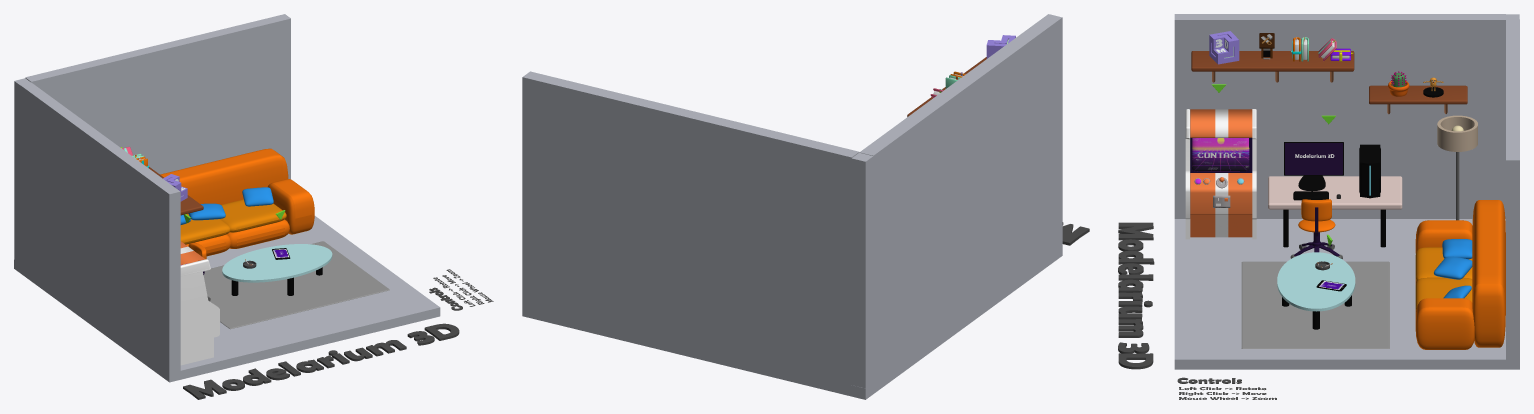
Rendered from modeloFinal.glb.
3 renders of one model, left to right at view 1: azimuth 30°, elevation 25°; view 2: azimuth 150°, elevation 25°; view 3: azimuth 270°, elevation 25°, orthographic. The views are drawn at different scales.
Parts seen in each view (by area): view 1: Cube.014, Cube.004, Cube.015, titulopagina, Plane, mesa_cristal, Text.002; view 2: Cube.014; view 3: Cube.014, Cube.004, Cube.015, Plane.003, titulopagina, mesa_cristal, mesaordenador, Plane.005, Monitor Ordenador, Plane.011, Cube.002, Cylinder.001 (+8 smaller).
Part boxes in pixels (left/top/right/bottom): Cube.014: left=14, top=14, right=440, bottom=382; Cube.004: left=160, top=148, right=314, bottom=256; Cube.015: left=203, top=241, right=389, bottom=329; titulopagina: left=183, top=323, right=459, bottom=399; Plane: left=180, top=259, right=219, bottom=365; mesa_cristal: left=222, top=244, right=332, bottom=282; Text.002: left=433, top=269, right=493, bottom=306; Cube.014: left=522, top=14, right=1062, bottom=399; Cube.014: left=1174, top=14, right=1519, bottom=369; Cube.004: left=1415, top=200, right=1505, bottom=349; Cube.015: left=1241, top=261, right=1389, bottom=348; Plane.003: left=1190, top=109, right=1252, bottom=237; titulopagina: left=1118, top=222, right=1154, bottom=369; mesa_cristal: left=1277, top=252, right=1355, bottom=311; mesaordenador: left=1268, top=176, right=1402, bottom=209; Plane.005: left=1191, top=51, right=1354, bottom=82; Monitor Ordenador: left=1284, top=142, right=1343, bottom=175; Plane.011: left=1192, top=138, right=1249, bottom=171; Cube.002: left=1369, top=85, right=1467, bottom=114; Cylinder.001: left=1437, top=115, right=1477, bottom=151.
Size of the model in its own units: 20.67 by 11.36 by 19.74.
81 materials, 2 textured.
